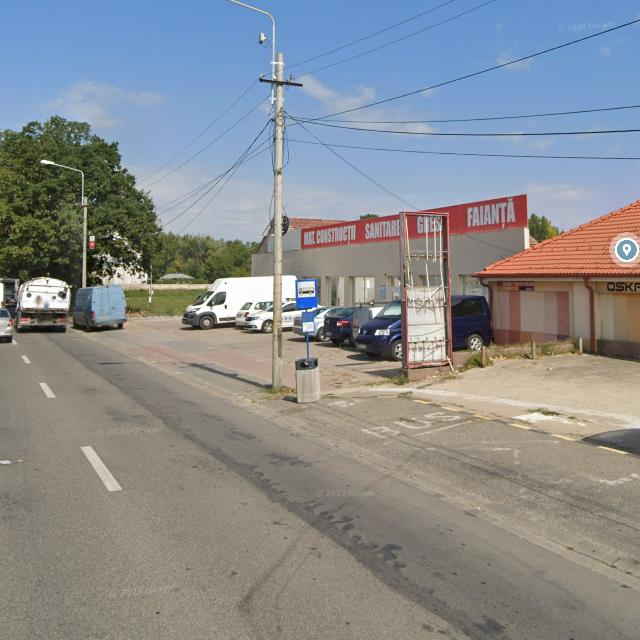info_bus_station: (296, 278, 318, 310)
